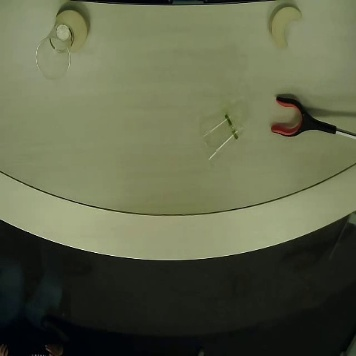empty_cup: (199, 111, 247, 167), (34, 23, 73, 80)
puck: (56, 10, 88, 52), (270, 5, 302, 47)
